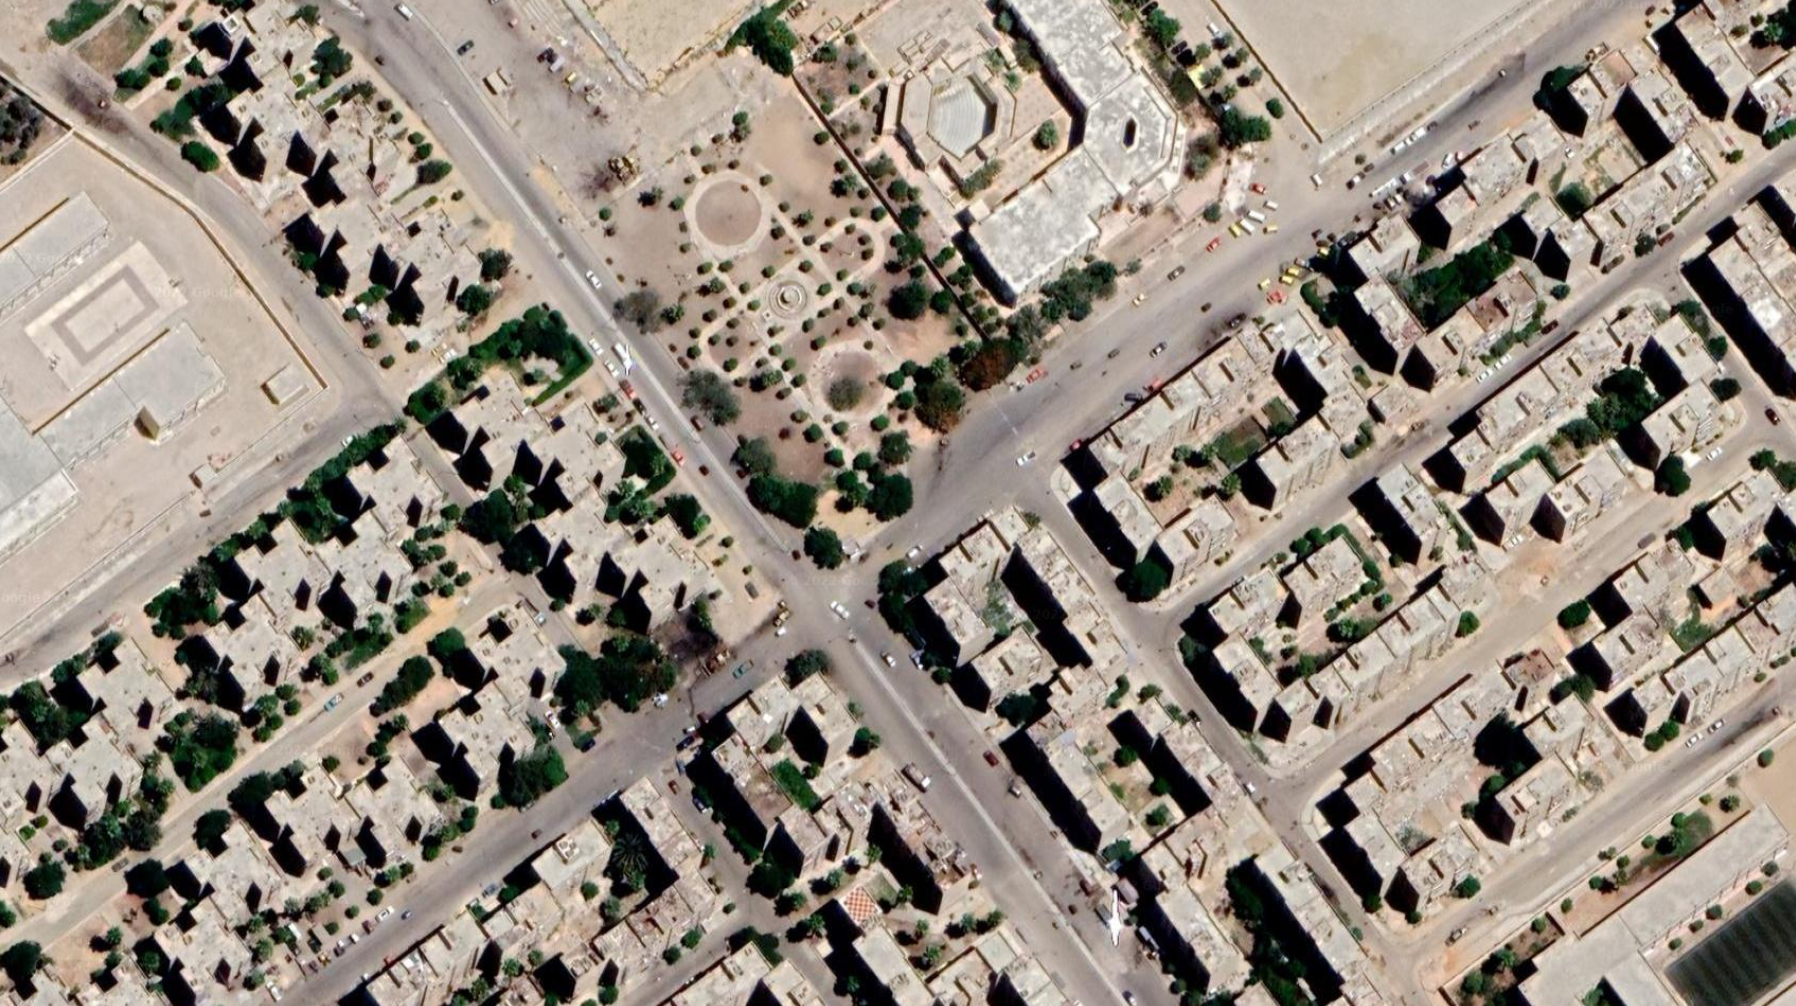car: (830, 600, 851, 621), (324, 692, 345, 711), (733, 660, 754, 678), (265, 981, 282, 1004), (619, 378, 636, 399), (585, 269, 602, 290), (905, 542, 924, 561), (1016, 450, 1036, 467), (375, 905, 395, 922), (340, 431, 361, 448), (1708, 718, 1726, 735), (587, 338, 603, 356), (1685, 732, 1703, 748), (879, 650, 896, 667), (1028, 367, 1044, 385), (1168, 266, 1185, 281), (440, 349, 456, 364), (691, 799, 707, 814), (604, 360, 618, 377), (1250, 182, 1267, 196), (645, 415, 659, 431), (671, 450, 685, 466), (1206, 238, 1221, 251)
